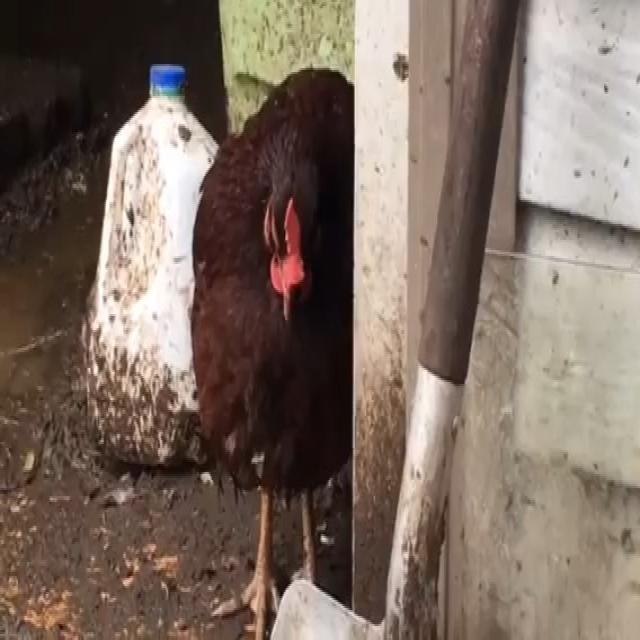sleeping chickens: (190, 62, 354, 640)
